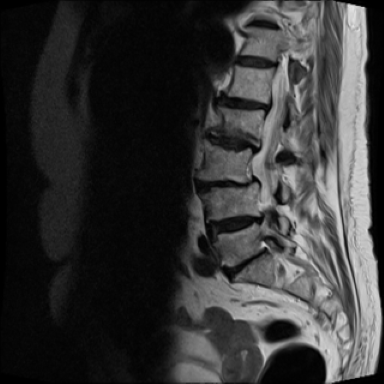Degenerative Disc Disease (DDD): (214, 243, 271, 289), (203, 208, 270, 240), (211, 89, 275, 116), (205, 132, 265, 157), (194, 174, 262, 195), (230, 51, 282, 72)
Spinal Stenosis (SS): (245, 204, 272, 234), (242, 171, 263, 193), (245, 140, 265, 159)
Spondylolisthesis: (187, 160, 274, 214)
